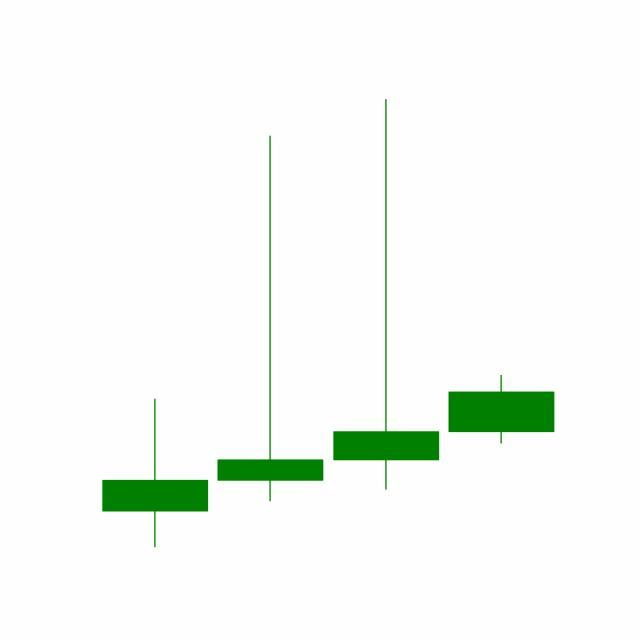Gravestone Doji: (329, 96, 445, 495)
